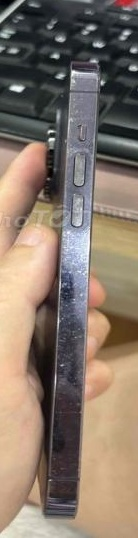scratch: (45, 358, 88, 512), (57, 238, 91, 357), (66, 147, 93, 239), (67, 70, 90, 148)
